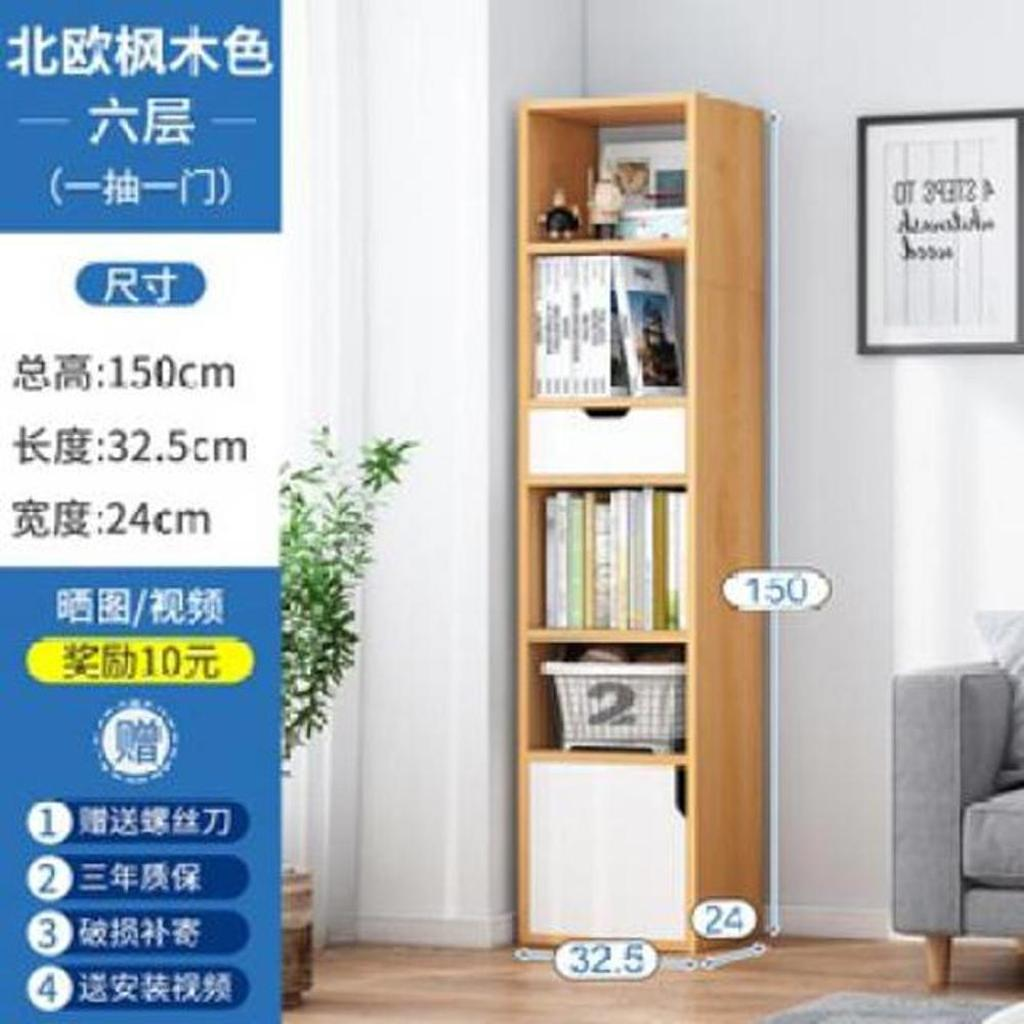lamp: (513, 89, 775, 965)
